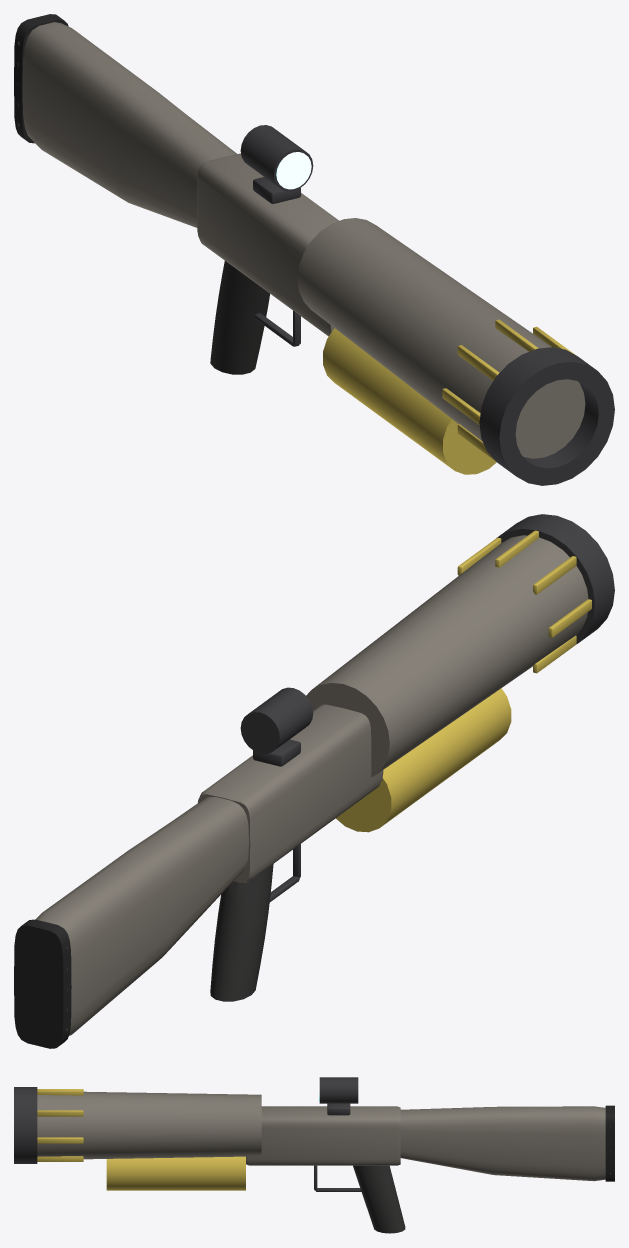
The model's file is sticky.glb.
3 views of the same model, one above another, from view 1: azimuth 30°, elevation 25°; view 2: azimuth 150°, elevation 25°; view 3: azimuth 270°, elevation 25° (orthographic). The views are drawn at different scales.
Parts seen in each view (by area): view 1: Body; view 2: Body; view 3: Body.
Part boxes in pixels (<box>): Body: <box>14,14,614,485</box>; Body: <box>14,514,614,1048</box>; Body: <box>14,1077,614,1233</box>.
Bounding box in the file's own units: 0.1 × 0.2136 × 0.777.
